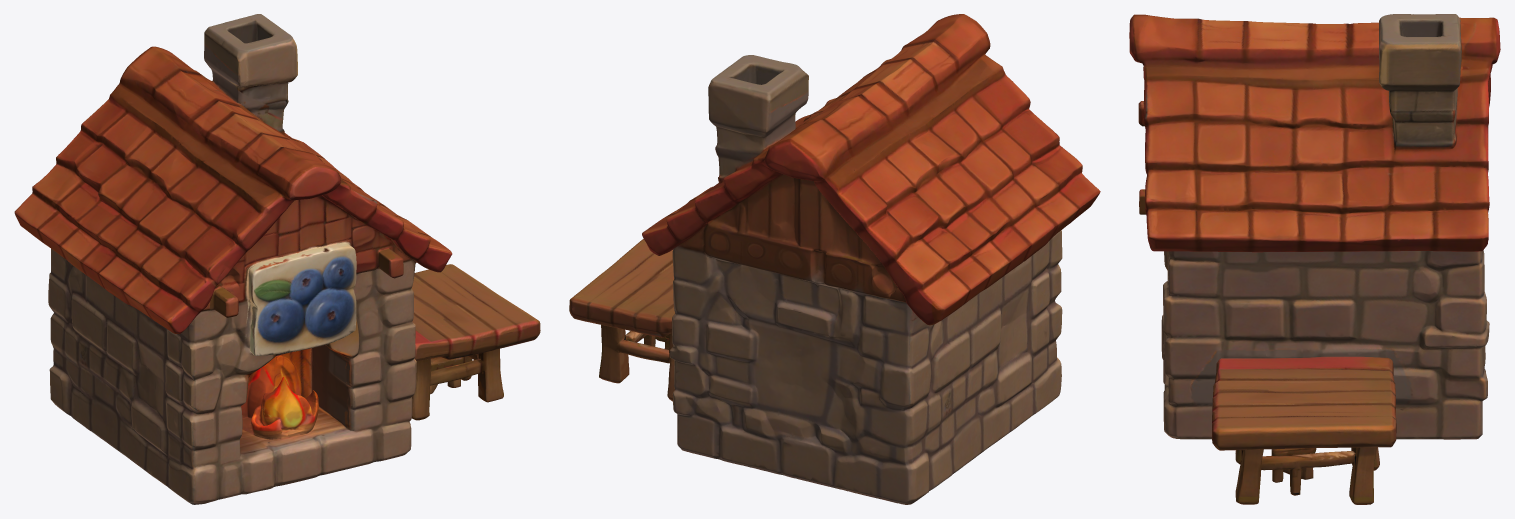
Rendered from Blueberry_house.glb.
3 views of the same model, side by side, from view 1: azimuth 30°, elevation 25°; view 2: azimuth 150°, elevation 25°; view 3: azimuth 270°, elevation 25° (orthographic). The views are drawn at different scales.
Size of the model in its own units: 2 by 1.66 by 1.43.
Materials: 1 (1 with a texture image).
